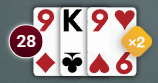9: (32, 6, 58, 35), (86, 7, 112, 36)
k: (58, 7, 86, 36)
